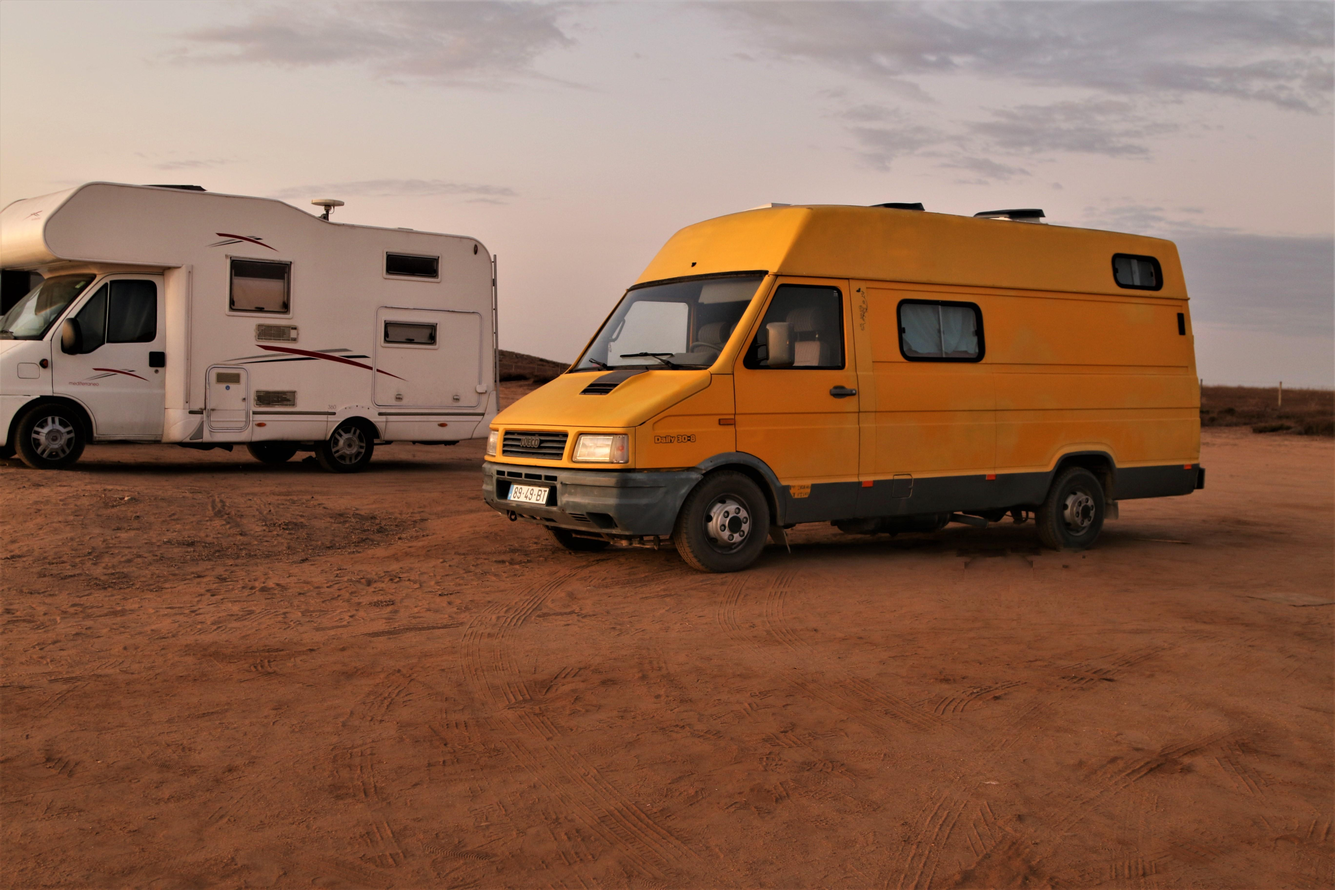vehicle: (482, 202, 1206, 573), (0, 181, 499, 471)
